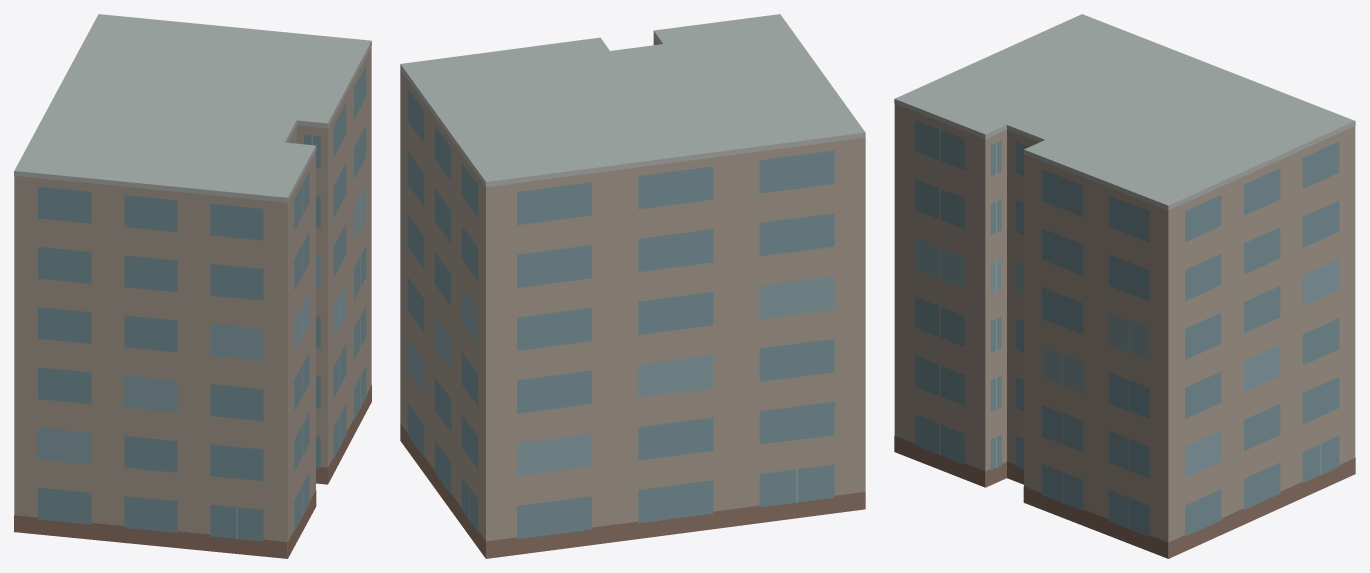
Rendered from survey-upis-32930863.glb.
3 renders of one model, left to right at view 1: azimuth 30°, elevation 25°; view 2: azimuth 150°, elevation 25°; view 3: azimuth 270°, elevation 25°, orthographic. The views are drawn at different scales.
Visible parts, largest first — view 1: survey-upis-32930863.tmp; view 2: survey-upis-32930863.tmp; view 3: survey-upis-32930863.tmp.
Boxes of the visible parts, <box> form: survey-upis-32930863.tmp: <box>14,14,371,558</box>; survey-upis-32930863.tmp: <box>400,14,865,558</box>; survey-upis-32930863.tmp: <box>894,14,1355,558</box>.
Size of the model in its own units: 20.85 by 17.9 by 21.18.
